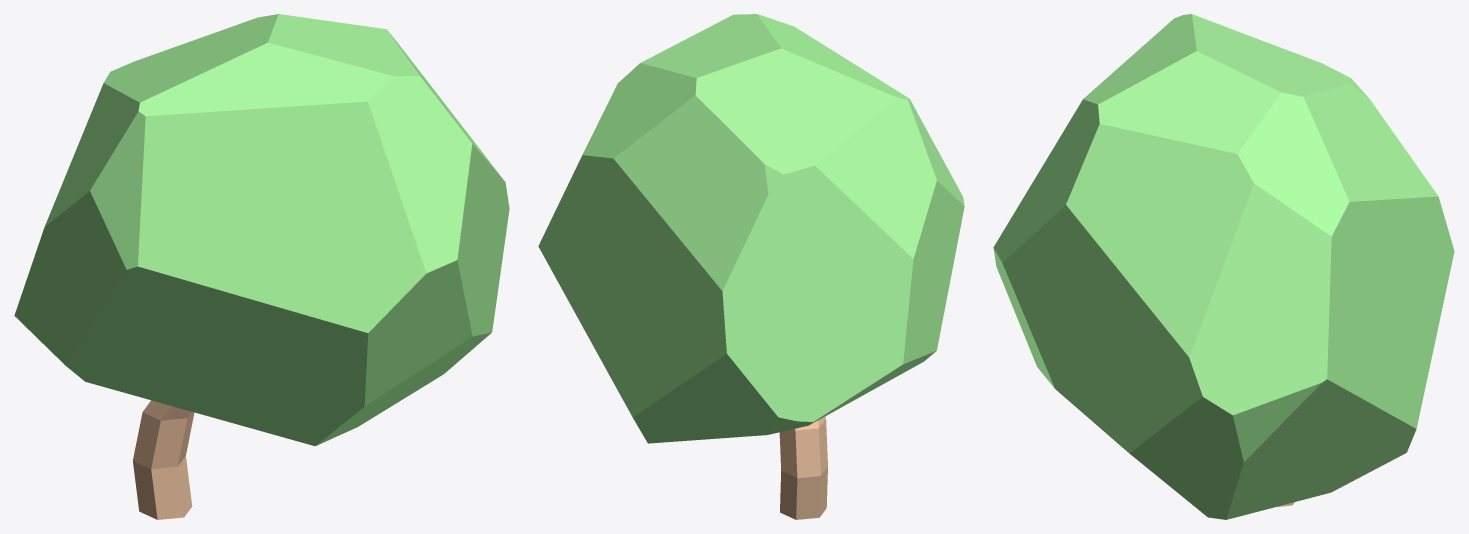
The model's file is bush.glb.
3 renders of one model, left to right at view 1: azimuth 30°, elevation 25°; view 2: azimuth 150°, elevation 25°; view 3: azimuth 270°, elevation 25°, orthographic. The views are drawn at different scales.
Parts seen in each view (by area): view 1: Leaf, Trunc; view 2: Leaf, Trunc; view 3: Leaf.
Boxes of the visible parts, x1,y1,x2,y2 form: Leaf: (14,14,509,446); Trunc: (133,400,194,519); Leaf: (538,14,964,443); Trunc: (779,416,827,519); Leaf: (993,14,1454,519).
Size of the model in its own units: 1.23 by 1.28 by 1.12.
